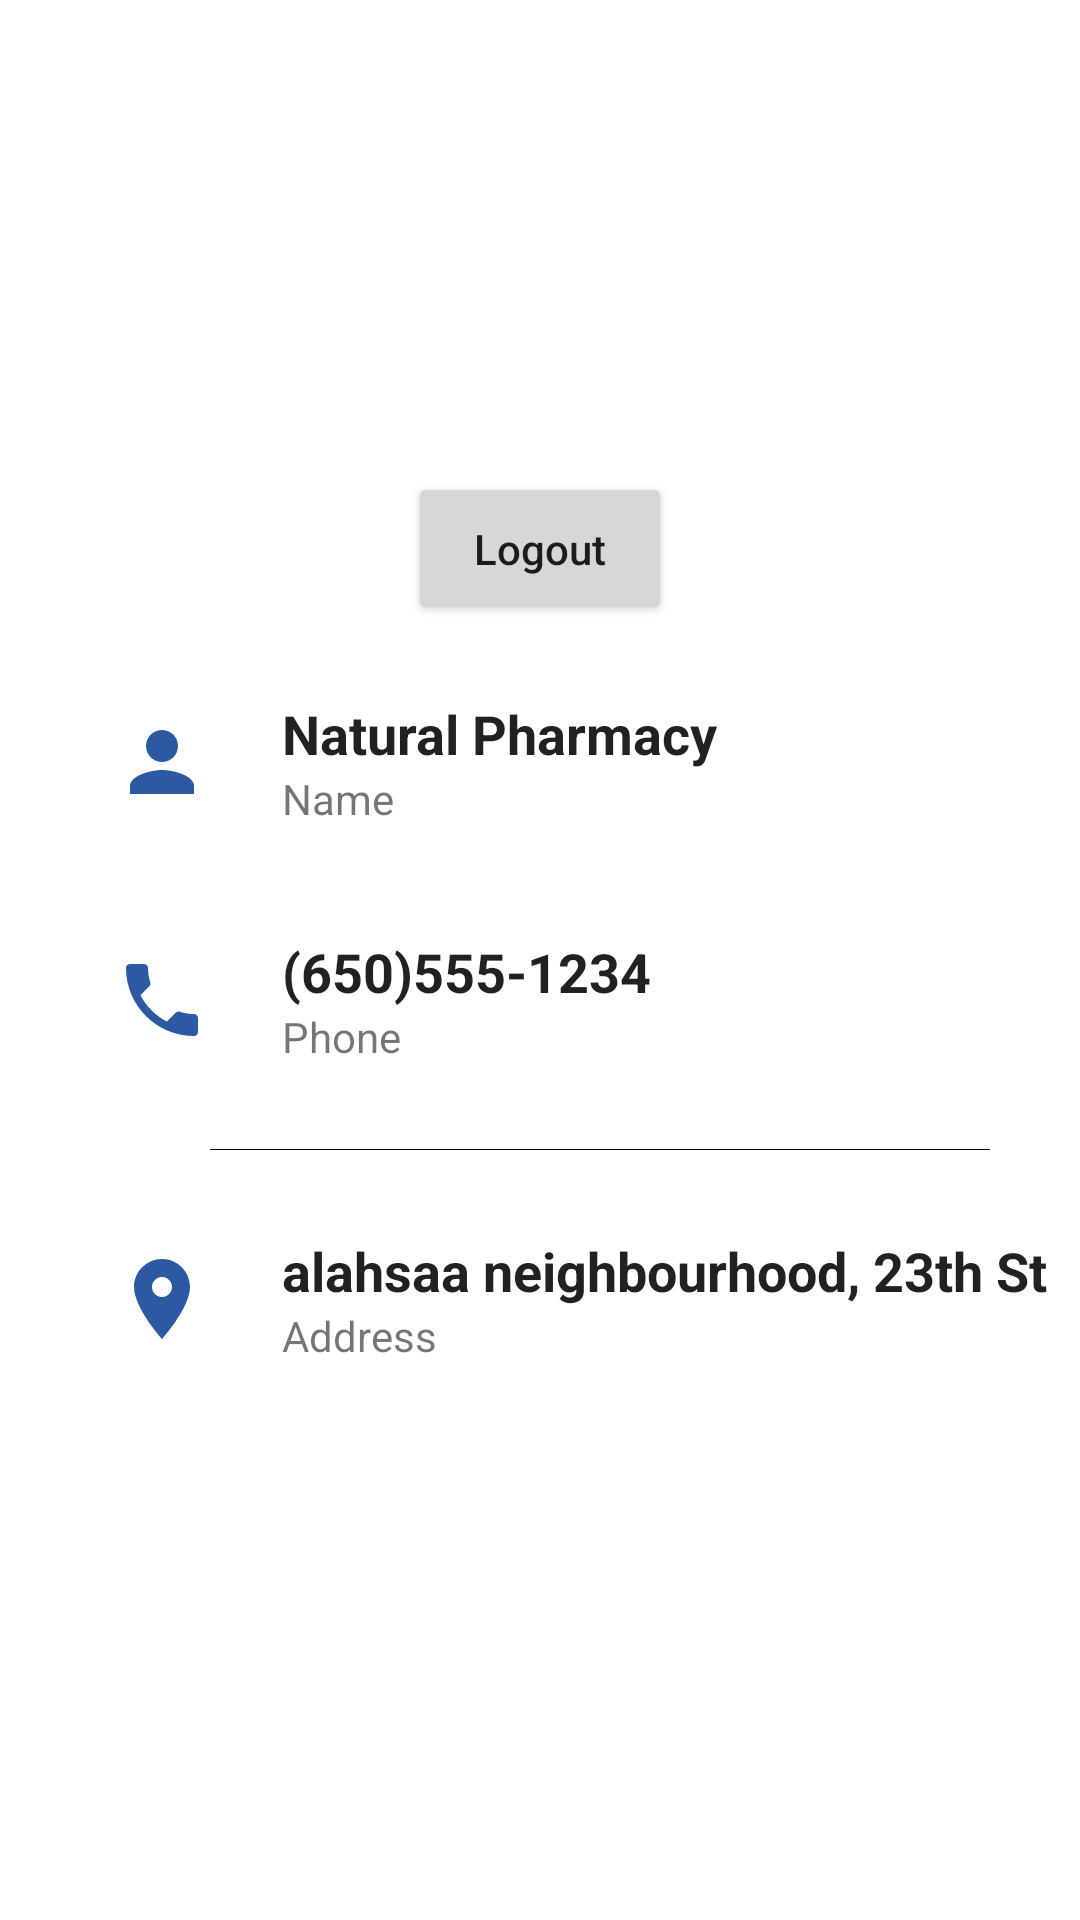

Icon click points for this 1080 × 1920 phone screenshot, format point (x, y):
profile: point (162, 762)
